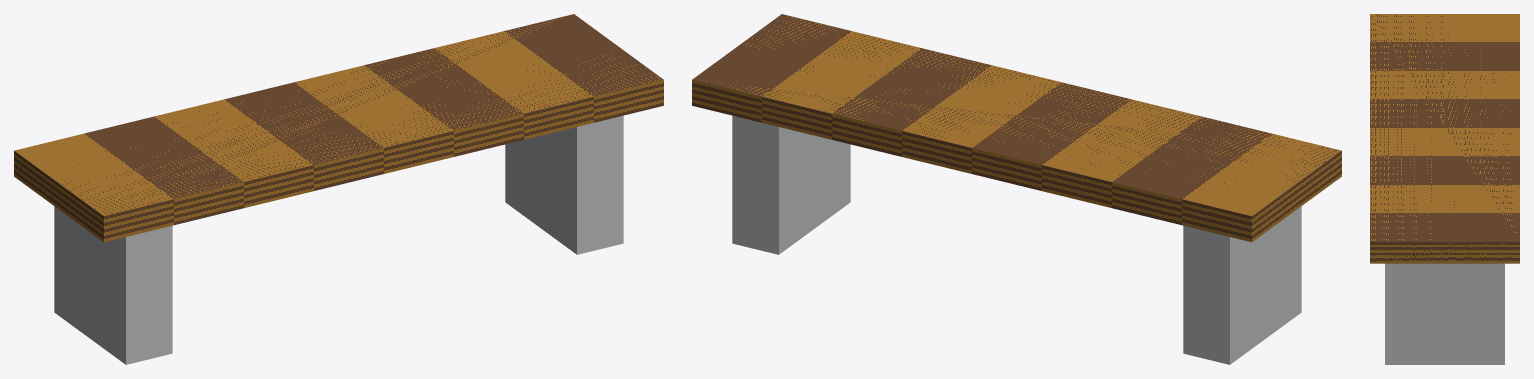
The model's file is sketchfab.glb.
3 views of the same model, side by side, from view 1: azimuth 30°, elevation 25°; view 2: azimuth 150°, elevation 25°; view 3: azimuth 270°, elevation 25° (orthographic). The views are drawn at different scales.
Size of the model in its own units: 1.8 by 0.5 by 0.5.
2 materials, 1 textured.
